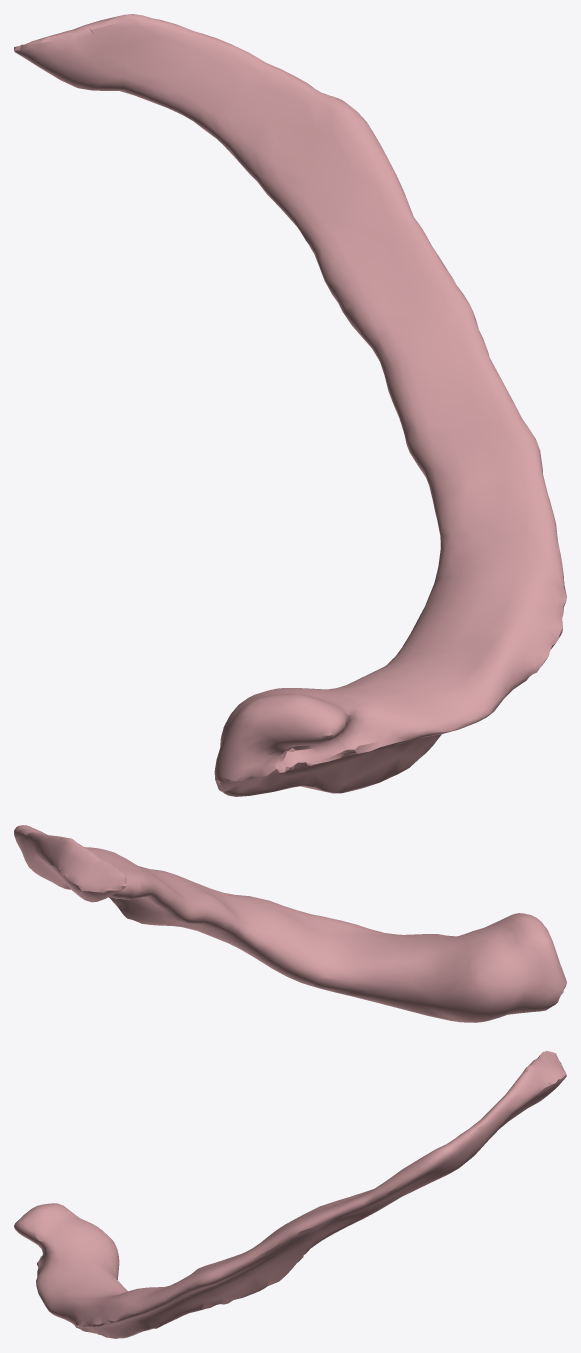
The model's file is fma74044-l_mm3643.glb.
The picture shows the model from 3 angles, top to bottom: view 1: azimuth 30°, elevation 25°; view 2: azimuth 150°, elevation 25°; view 3: azimuth 270°, elevation 25°; orthographic projection. The views are drawn at different scales.
Parts seen in each view (by area): view 1: FMA74044-L_MM3643; view 2: FMA74044-L_MM3643; view 3: FMA74044-L_MM3643.
Part boxes in pixels (bbox=[...]): FMA74044-L_MM3643: bbox=[14, 14, 566, 796]; FMA74044-L_MM3643: bbox=[14, 825, 566, 1022]; FMA74044-L_MM3643: bbox=[14, 1051, 566, 1338].
Size of the model in its own units: 0.0187 by 0.0187 by 0.0321.
